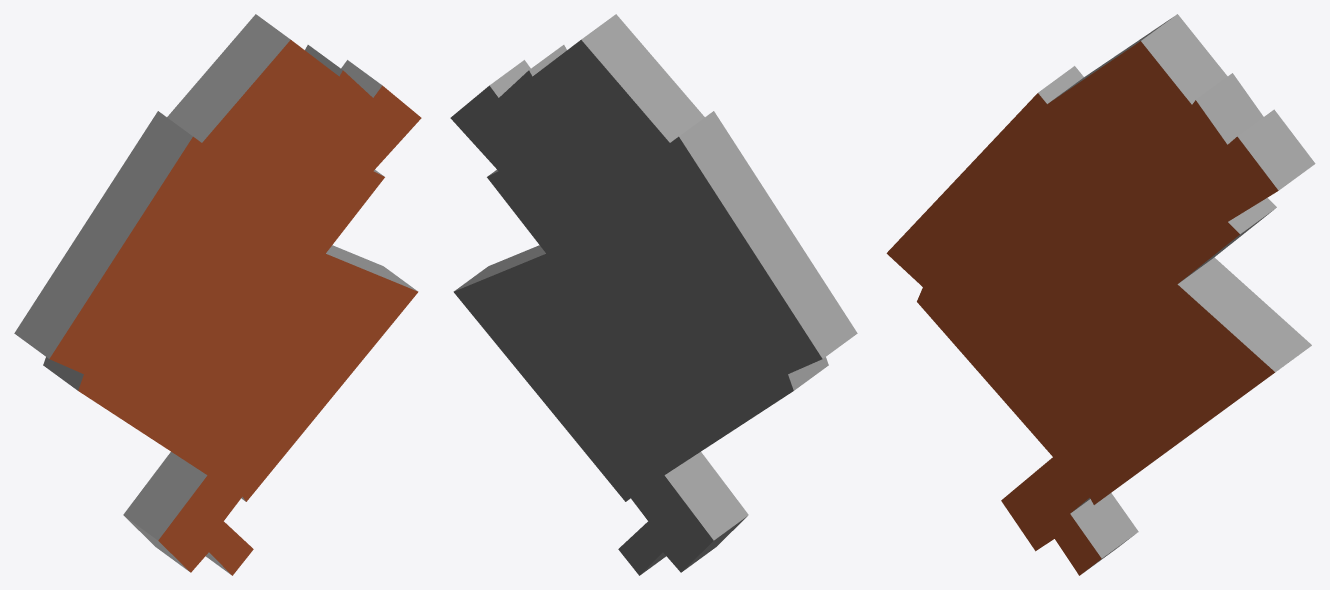
File: construction_3240_assumed_A_Casa_h6m.obj
3 renders of one model, left to right at view 1: azimuth 30°, elevation 25°; view 2: azimuth 150°, elevation 25°; view 3: azimuth 330°, elevation 25°, orthographic. The views are drawn at different scales.
Visible parts, largest first — view 1: construction_3240_assumed_A_Casa; view 2: construction_3240_assumed_A_Casa; view 3: construction_3240_assumed_A_Casa.
Boxes of the visible parts, bbox=[...] form: construction_3240_assumed_A_Casa: bbox=[14, 14, 421, 575]; construction_3240_assumed_A_Casa: bbox=[450, 14, 857, 575]; construction_3240_assumed_A_Casa: bbox=[886, 14, 1315, 575].
Size of the model in its own units: 36.81 by 49.31 by 6.
